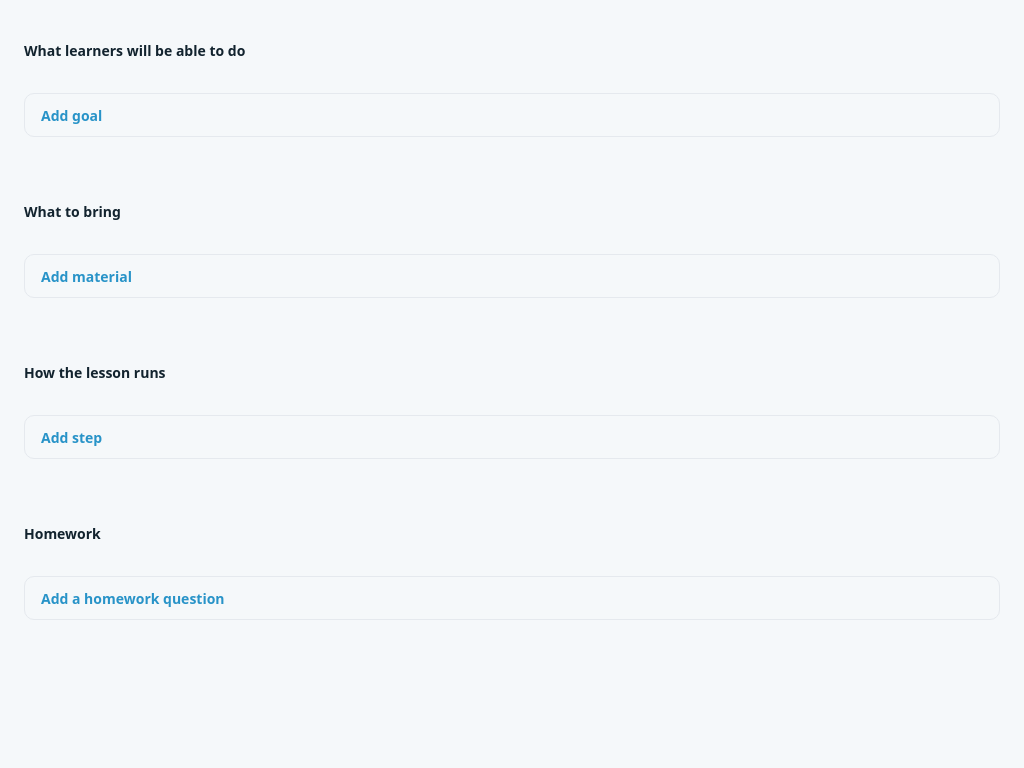
Test: EditableLesson › offers a way to add each kind of block, named as the block is named
Click the button "Add step" at (72, 437), box [24,415,1000,459]
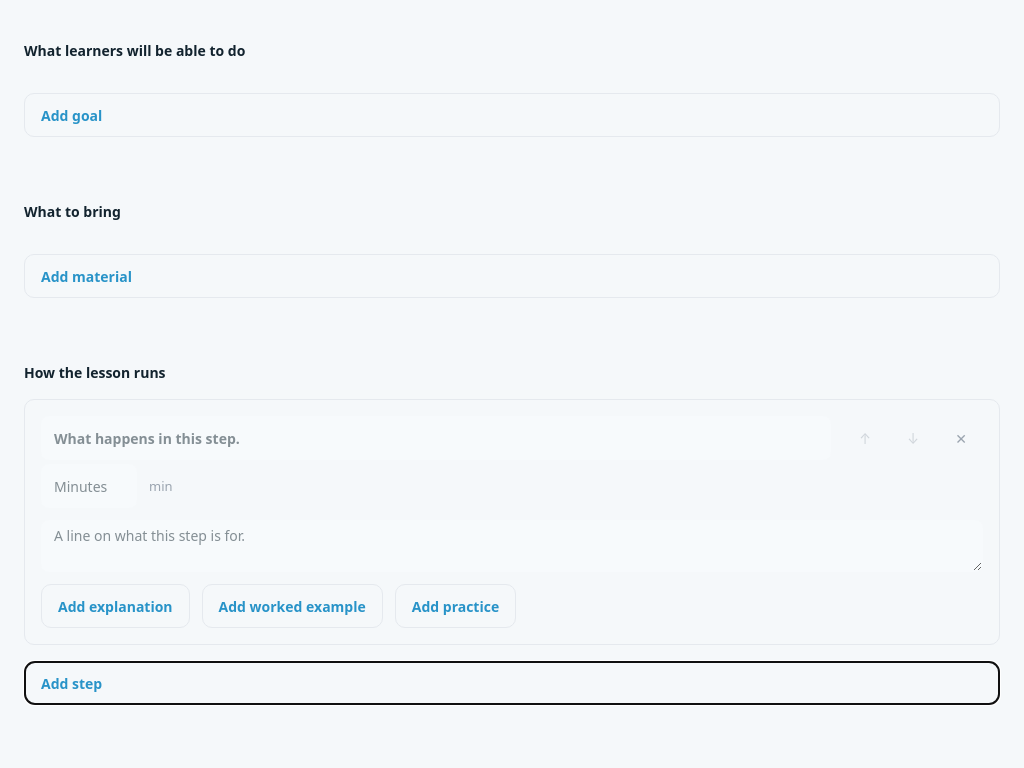
Result: the button "Add explanation" is shown at [41,584,190,628]
Result: the button "Add worked example" is shown at [202,584,383,628]
Result: the button "Add practice" is shown at [395,584,516,628]
